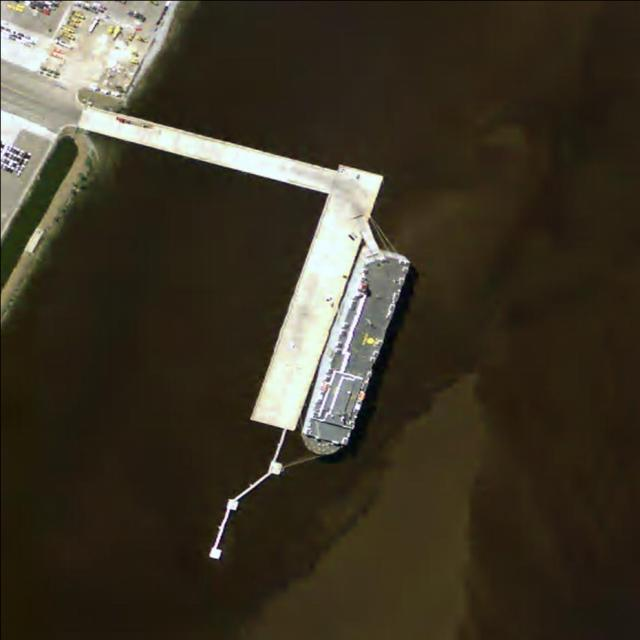Dock: (248, 162, 385, 434)
RoRo: (295, 240, 412, 466)
